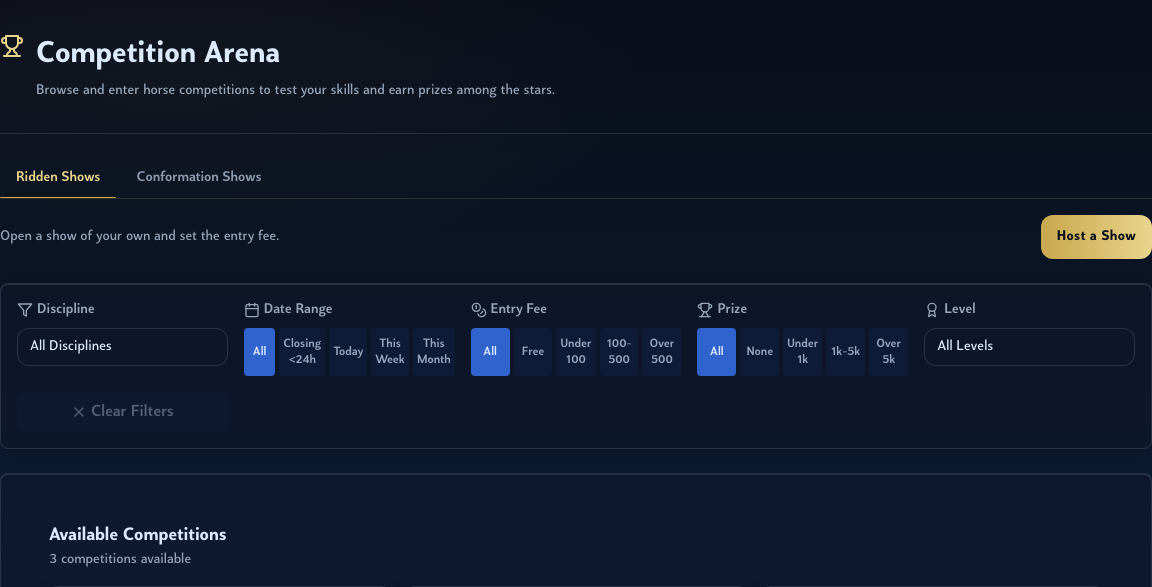
Scenario: CompetitionBrowserPage — ?tab= URL sync (Equoria-o5hub.30) › clicking the Conformation tab writes ?tab=conformation
Click the tab with test id "tab-conformation".
click(199, 178)  # box left=120, top=158, right=278, bottom=198
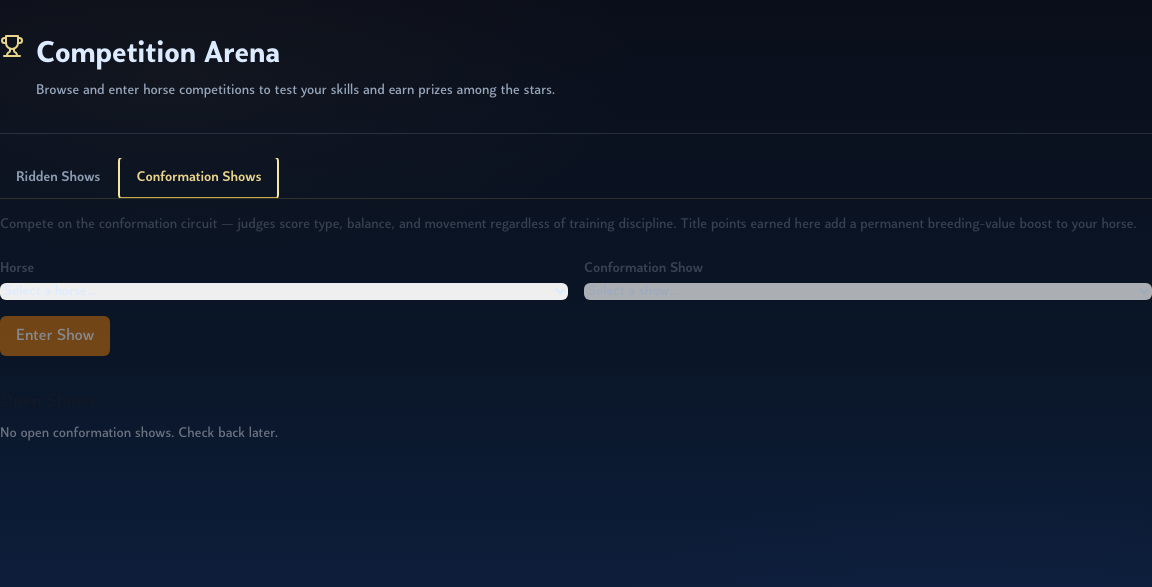
Now the element with test id "conformation-shows-panel" is shown, box left=0, top=215, right=1151, bottom=444
